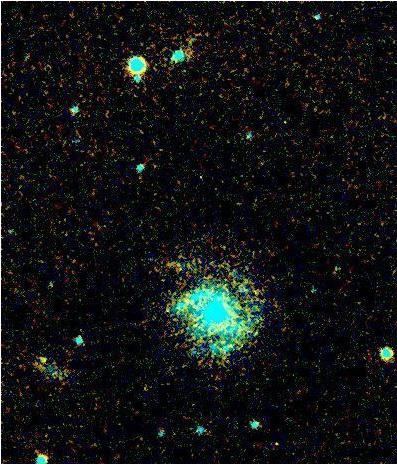star: (26, 343, 56, 373)
